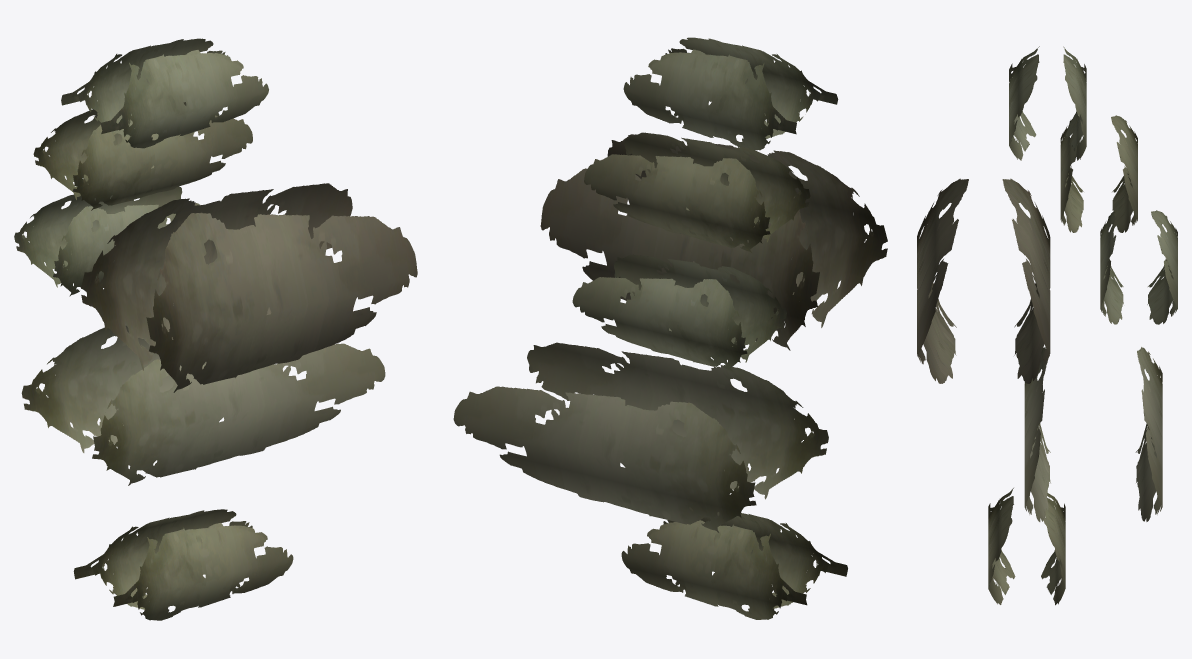
The model's file is props_coalmines_foliage_clump2.glb.
3 views of the same model, side by side, from view 1: azimuth 30°, elevation 25°; view 2: azimuth 150°, elevation 25°; view 3: azimuth 270°, elevation 25° (orthographic). The views are drawn at different scales.
Visible parts, largest first — view 1: models/props_coalmines/foliage_clump2; view 2: models/props_coalmines/foliage_clump2; view 3: models/props_coalmines/foliage_clump2.
Part boxes in pixels (box(x1,y1,x2,y2)): models/props_coalmines/foliage_clump2: box(14, 38, 417, 620); models/props_coalmines/foliage_clump2: box(453, 37, 887, 619); models/props_coalmines/foliage_clump2: box(917, 46, 1177, 605).
Bounding box in the file's own units: 42.14 × 79.25 × 34.25.
Materials: 1 (1 with a texture image).
